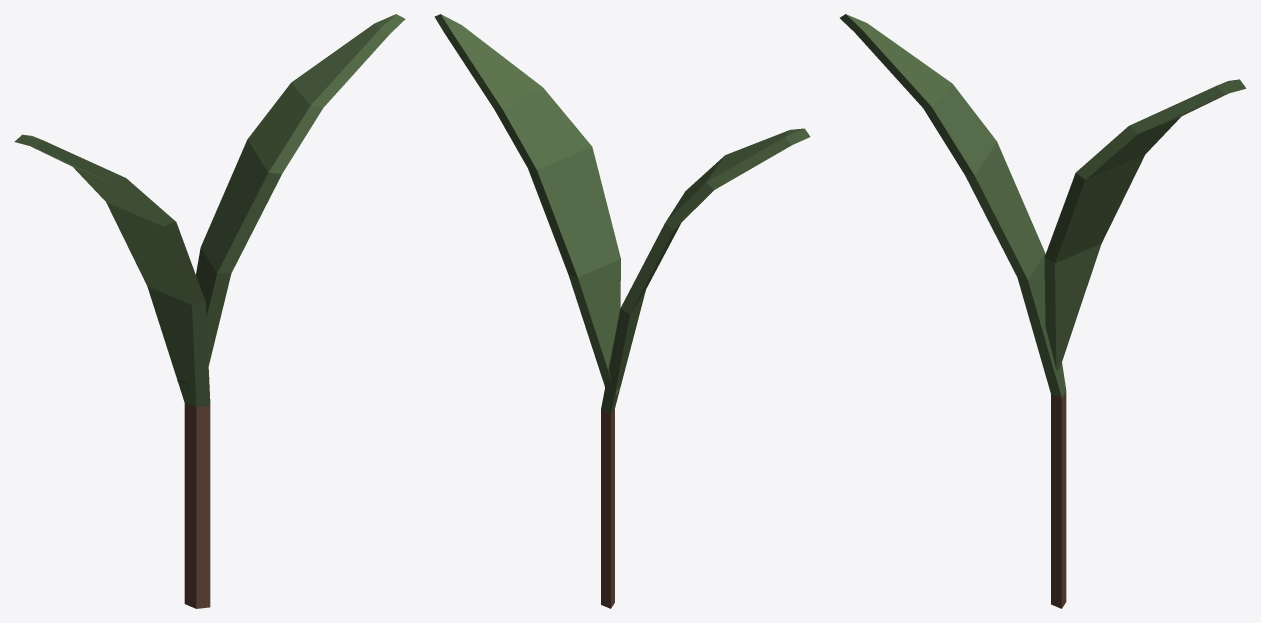
Rendered from crop-bushberries-1.glb.
3 renders of one model, left to right at view 1: azimuth 30°, elevation 25°; view 2: azimuth 150°, elevation 25°; view 3: azimuth 330°, elevation 25°, orthographic. The views are drawn at different scales.
Visible parts, largest first — view 1: Plane_008; view 2: Plane_008; view 3: Plane_008.
Boxes of the visible parts, x1,y1,x2,y2 form: Plane_008: (14, 14, 405, 608); Plane_008: (434, 14, 810, 608); Plane_008: (840, 14, 1246, 608).
Size of the model in its own units: 0.2595 by 0.3529 by 0.0501.
